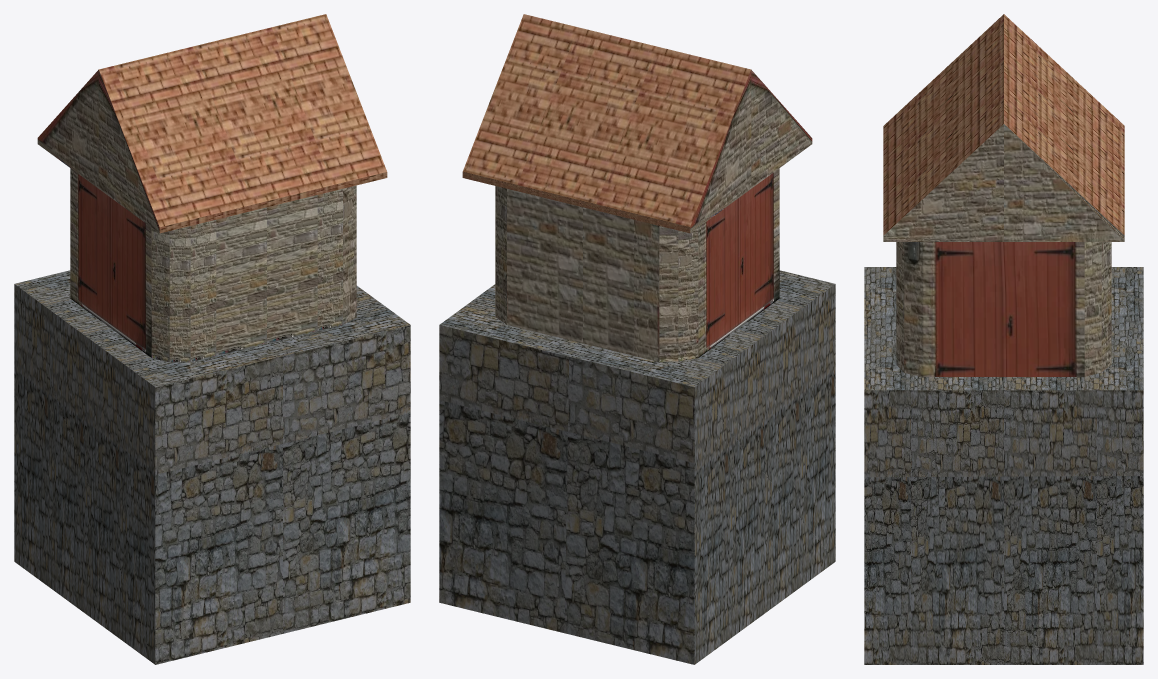
Rendered from warehouse.glb.
3 views of the same model, side by side, from view 1: azimuth 30°, elevation 25°; view 2: azimuth 150°, elevation 25°; view 3: azimuth 270°, elevation 25° (orthographic).
Visible parts, largest first — view 1: Cube.002, Cube, Cube.001; view 2: Cube.002, Cube, Cube.001; view 3: Cube.002, Cube, Cube.001.
Boxes of the visible parts, x1,y1,x2,y2 form: Cube.002: (14,270,410,664); Cube: (37,69,356,362); Cube.001: (99,14,387,233); Cube.002: (439,270,835,664); Cube: (495,69,812,361); Cube.001: (462,14,750,233); Cube.002: (864,267,1143,664); Cube: (883,124,1124,376); Cube.001: (883,14,1124,235).
Size of the model in its own units: 1.92 by 3.89 by 1.84.
Materials: 3 (3 with a texture image).
